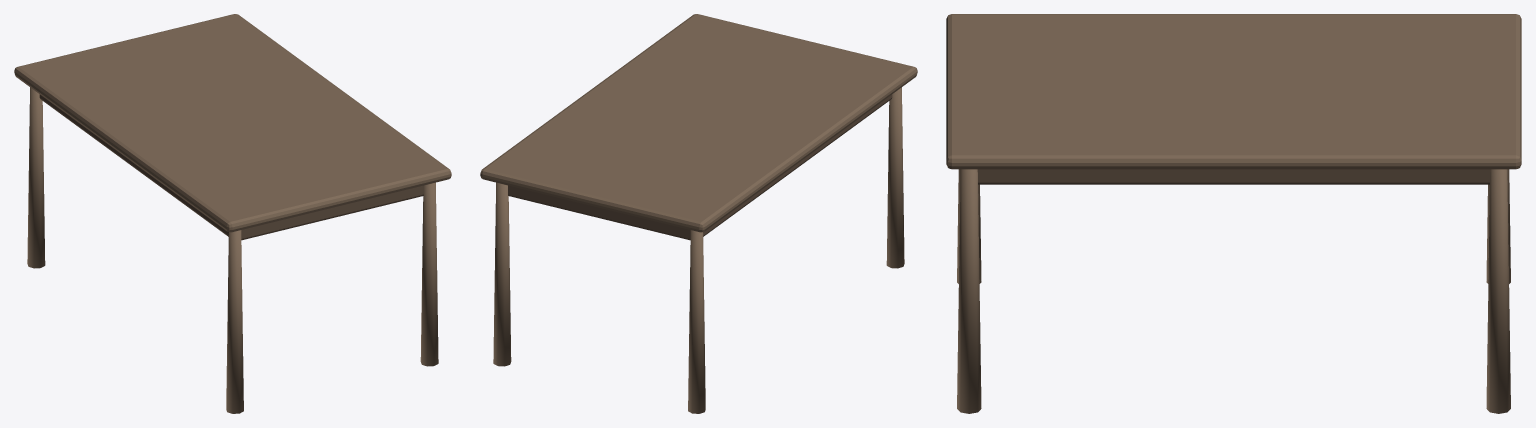
Rendered from table_0_9x1_5x0_75.glb.
The picture shows the model from 3 angles, left to right: view 1: azimuth 30°, elevation 25°; view 2: azimuth 150°, elevation 25°; view 3: azimuth 270°, elevation 25°; orthographic projection. The views are drawn at different scales.
Parts seen in each view (by area): view 1: table_0_9x1_5x0_75; view 2: table_0_9x1_5x0_75; view 3: table_0_9x1_5x0_75.
Boxes of the visible parts, bbox=[...] form: table_0_9x1_5x0_75: bbox=[14, 14, 451, 413]; table_0_9x1_5x0_75: bbox=[480, 14, 917, 413]; table_0_9x1_5x0_75: bbox=[946, 14, 1521, 413].
Size of the model in its own units: 0.9 by 0.75 by 1.5.
